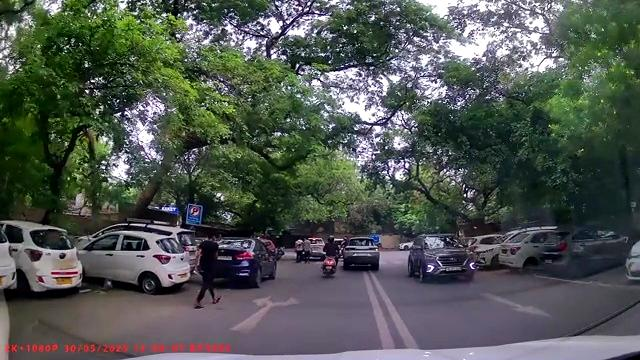motorcycle_with_helmet: (320, 235, 340, 277)
